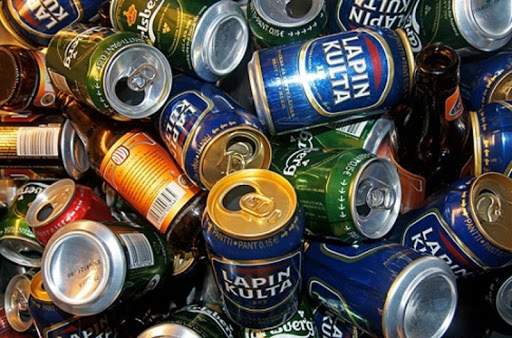bottle: (54, 87, 207, 241), (398, 43, 467, 221)
can: (245, 24, 415, 130), (200, 171, 312, 324), (153, 67, 272, 191), (308, 245, 462, 336), (43, 25, 179, 126), (288, 143, 418, 246), (36, 219, 170, 315), (402, 172, 512, 280), (107, 1, 248, 81)
